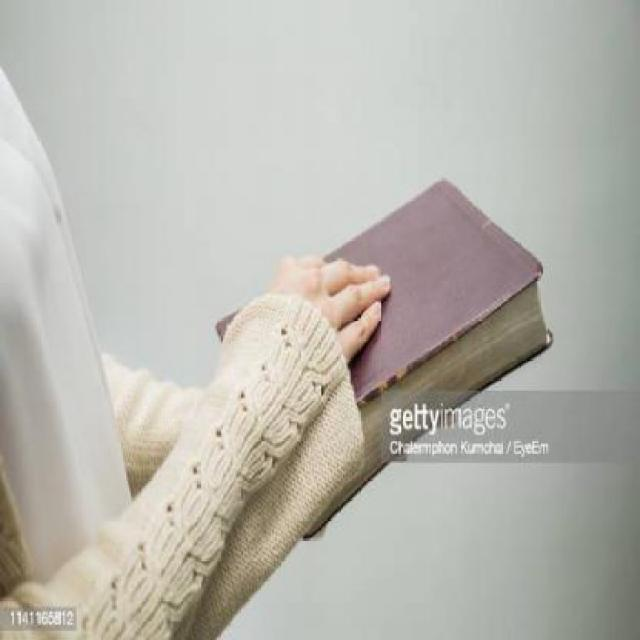book: (172, 186, 610, 566)
